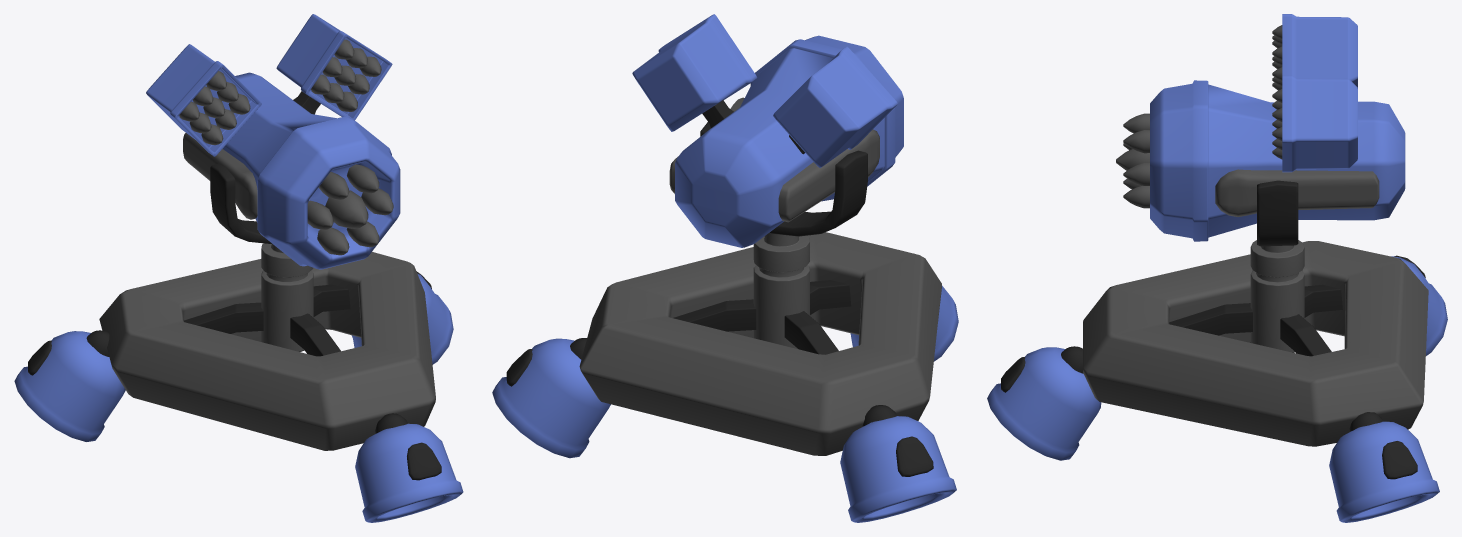
File: _Turel_01.fbx
3 renders of one model, left to right at view 1: azimuth 30°, elevation 25°; view 2: azimuth 150°, elevation 25°; view 3: azimuth 270°, elevation 25°, orthographic. The views are drawn at different scales.
Visible parts, largest first — view 1: Turel_01; view 2: Turel_01; view 3: Turel_01.
Part boxes in pixels (x1,y1,x2,y2): Turel_01: (14,14,463,522); Turel_01: (492,14,958,522); Turel_01: (987,14,1447,522).
Size of the model in its own units: 341 by 307 by 317.
Materials: 1 (1 with a texture image).
